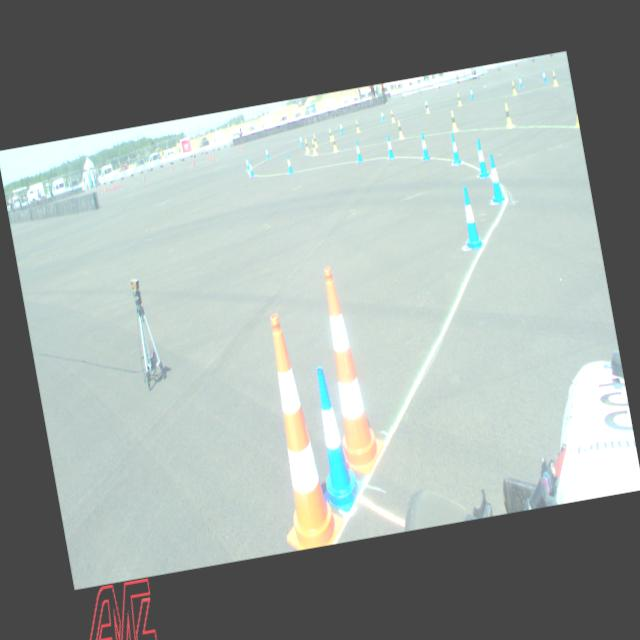blue_cone: (302, 362, 366, 516), (455, 184, 484, 251), (485, 152, 505, 204), (472, 138, 488, 178), (448, 132, 460, 164), (418, 132, 429, 160), (384, 134, 394, 159), (354, 140, 362, 162), (285, 154, 293, 174), (248, 160, 254, 176), (244, 156, 250, 170), (469, 86, 474, 98), (264, 146, 269, 158), (518, 75, 522, 88), (542, 70, 546, 82), (380, 109, 384, 120), (299, 134, 303, 145), (339, 121, 343, 132), (424, 98, 427, 109)
large_orange_cone: (248, 308, 347, 552), (311, 263, 388, 478)
yellow_cone: (502, 102, 512, 128), (449, 110, 458, 132), (396, 119, 404, 138), (330, 136, 338, 152), (573, 107, 579, 127), (551, 70, 558, 86), (310, 138, 316, 154), (456, 92, 461, 106), (304, 138, 309, 152), (511, 80, 516, 94), (328, 128, 333, 141), (355, 120, 360, 132), (312, 134, 317, 146), (424, 101, 429, 113), (390, 110, 394, 122)
